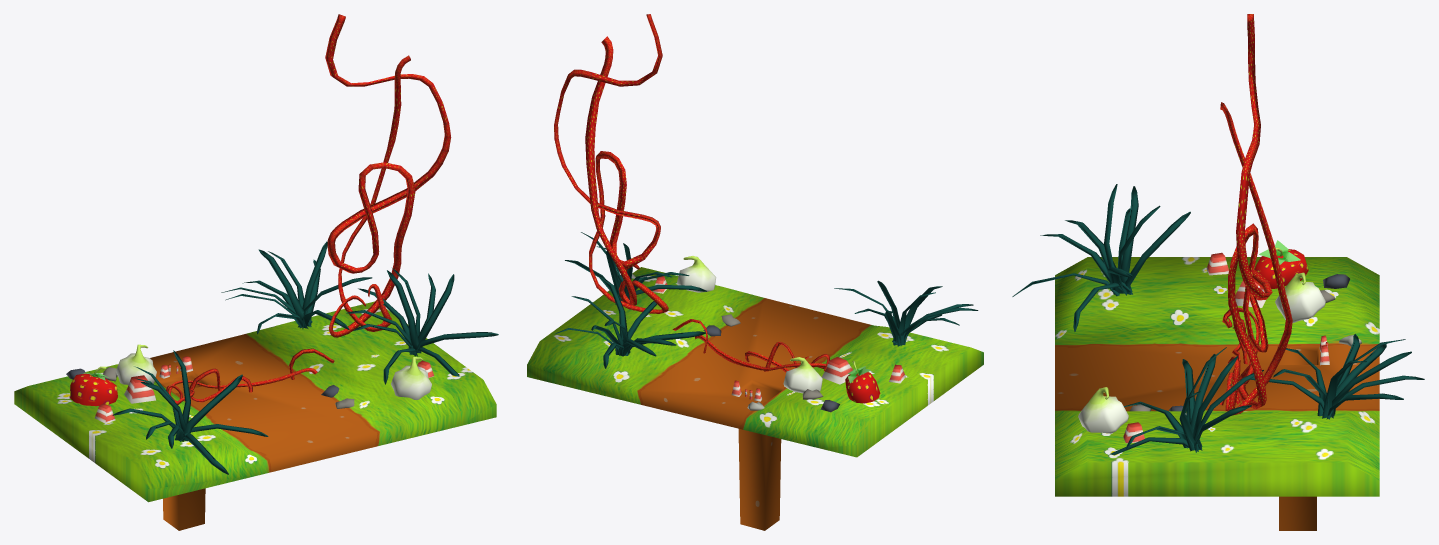
The model's file is D_block_11.FBX.
3 views of the same model, side by side, from view 1: azimuth 30°, elevation 25°; view 2: azimuth 150°, elevation 25°; view 3: azimuth 270°, elevation 25° (orthographic). The views are drawn at different scales.
Visible parts, largest first — view 1: Sol_trou_04; view 2: Sol_trou_04; view 3: Sol_trou_04.
Part boxes in pixels (<box>): Sol_trou_04: <box>14,14,498,530</box>; Sol_trou_04: <box>527,14,983,530</box>; Sol_trou_04: <box>1012,14,1424,530</box>.
Size of the model in its own units: 995 by 1205 by 763.
